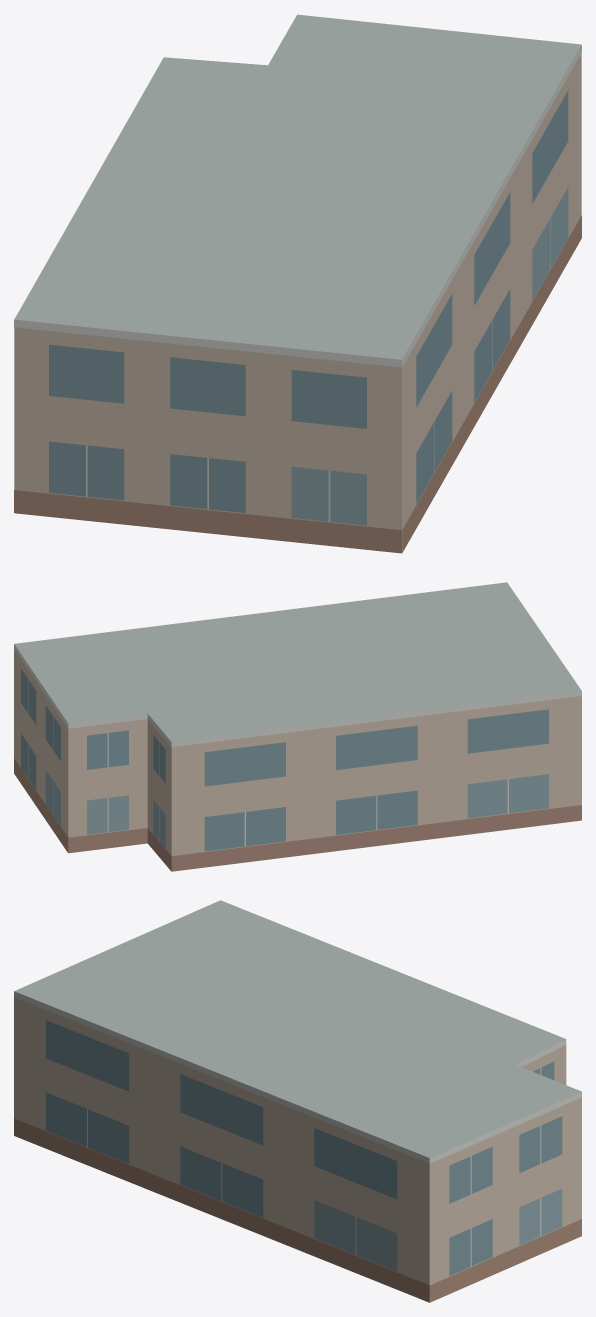
The model's file is survey-upis-32914932.glb.
3 renders of one model, top to bottom at view 1: azimuth 30°, elevation 25°; view 2: azimuth 150°, elevation 25°; view 3: azimuth 270°, elevation 25°, orthographic. The views are drawn at different scales.
Parts seen in each view (by area): view 1: survey-upis-32914932.tmp; view 2: survey-upis-32914932.tmp; view 3: survey-upis-32914932.tmp.
Part boxes in pixels (<box>): survey-upis-32914932.tmp: <box>14,14,581,553</box>; survey-upis-32914932.tmp: <box>14,582,581,871</box>; survey-upis-32914932.tmp: <box>14,900,581,1302</box>.
Bounding box in the file's own units: 23.35 × 6.1 × 21.72.
